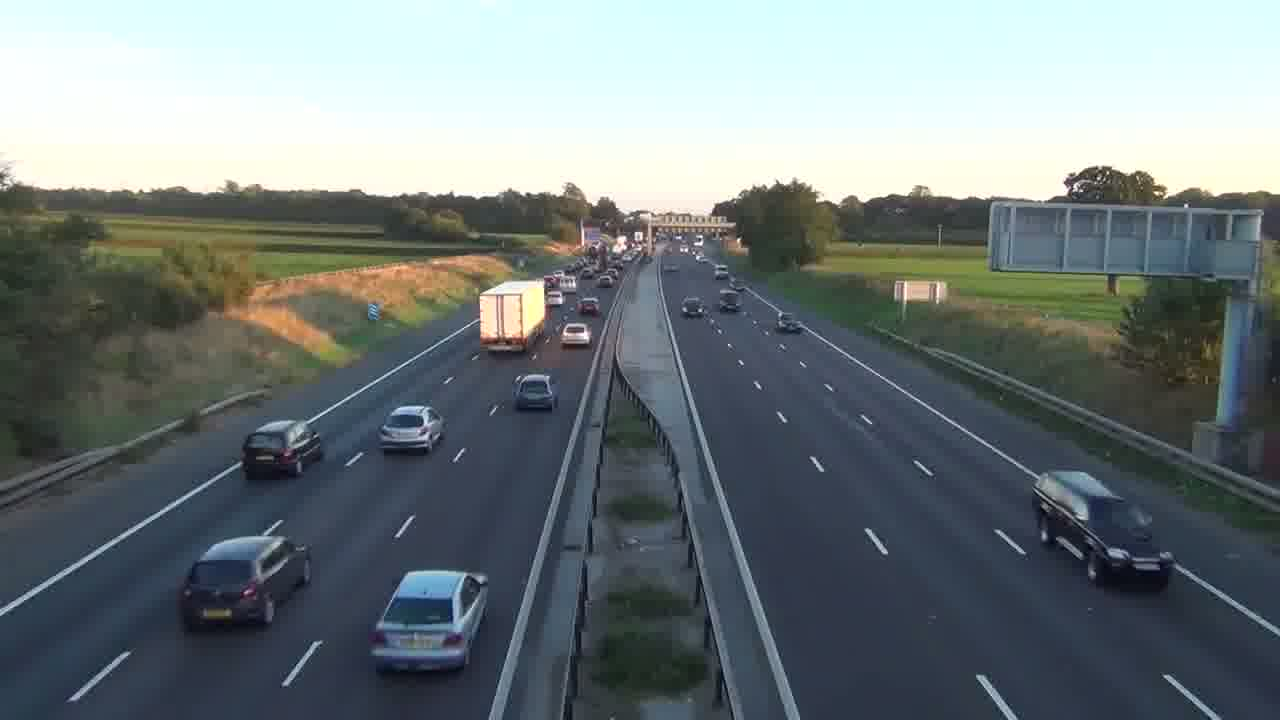car: (178, 533, 313, 631), (368, 568, 490, 674), (240, 418, 323, 479), (377, 404, 446, 454), (512, 372, 558, 412), (561, 321, 592, 347), (680, 296, 705, 318)
truck: (1030, 468, 1176, 590), (479, 279, 547, 355)
